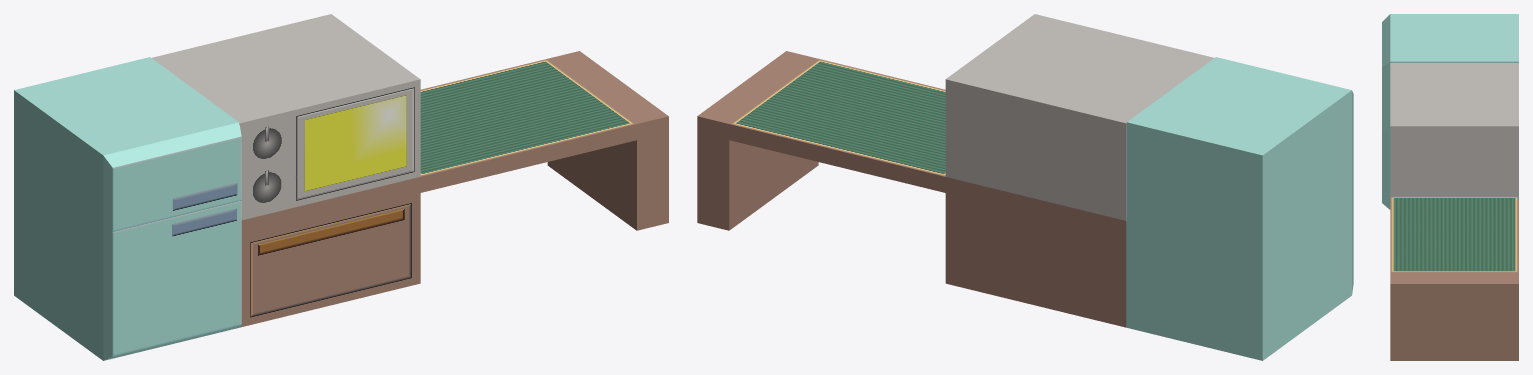
The model's file is Kitchen.fbx.
3 views of the same model, side by side, from view 1: azimuth 30°, elevation 25°; view 2: azimuth 150°, elevation 25°; view 3: azimuth 270°, elevation 25° (orthographic). The views are drawn at different scales.
Parts seen in each view (by area): view 1: Kitchen; view 2: Kitchen; view 3: Kitchen.
Part boxes in pixels (x1,y1,x2,y2): Kitchen: (14, 14, 668, 360); Kitchen: (697, 14, 1353, 360); Kitchen: (1382, 14, 1518, 360).
Size of the model in its own units: 732 by 254 by 213.
Materials: 1 (1 with a texture image).
